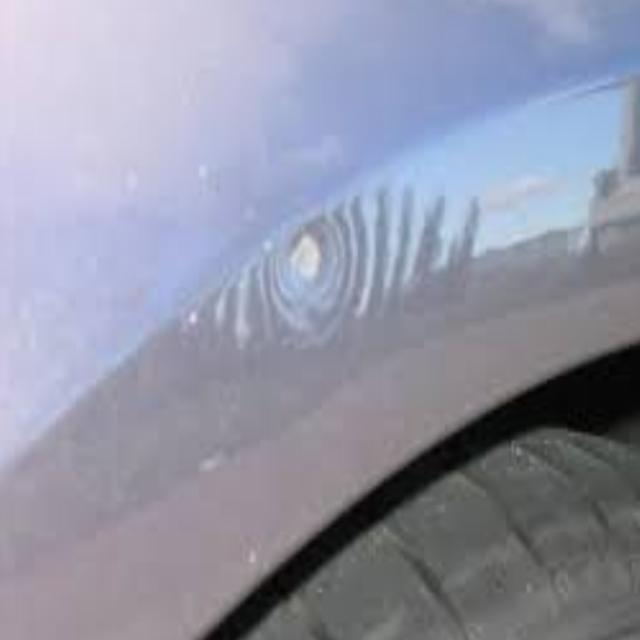dents: (260, 194, 364, 347)
